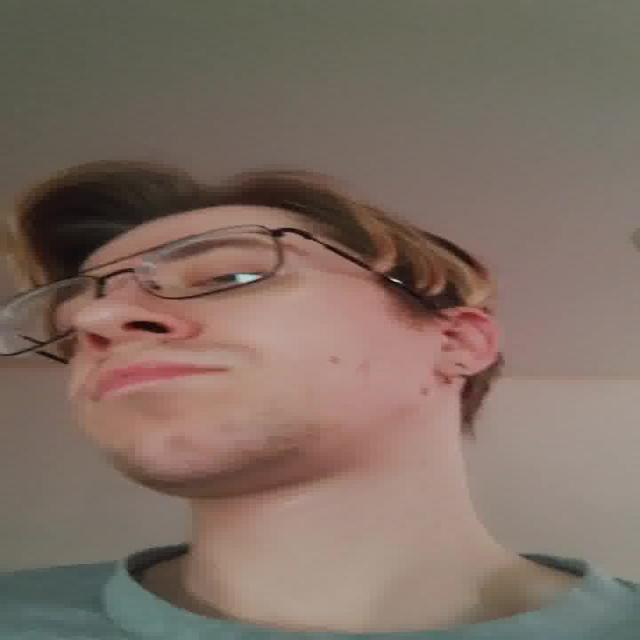earlobe: (430, 306, 504, 379)
